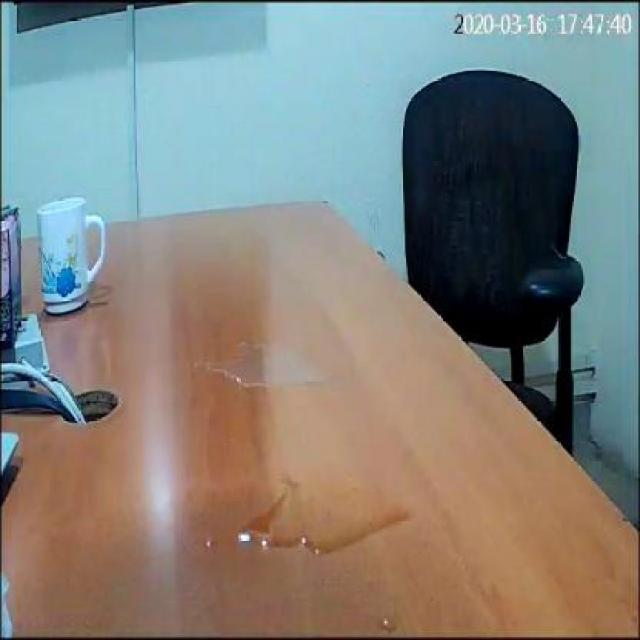spill: (239, 477, 407, 555), (207, 348, 321, 394)
